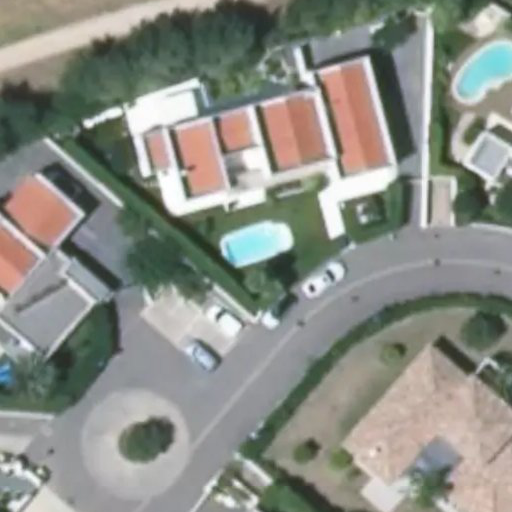pool: (223, 237, 291, 246)
